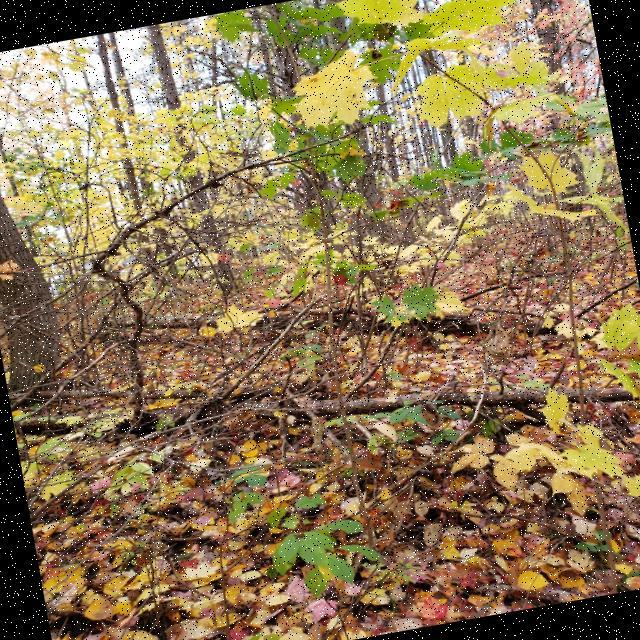fallen_object: (12, 269, 640, 532), (63, 202, 614, 436)
